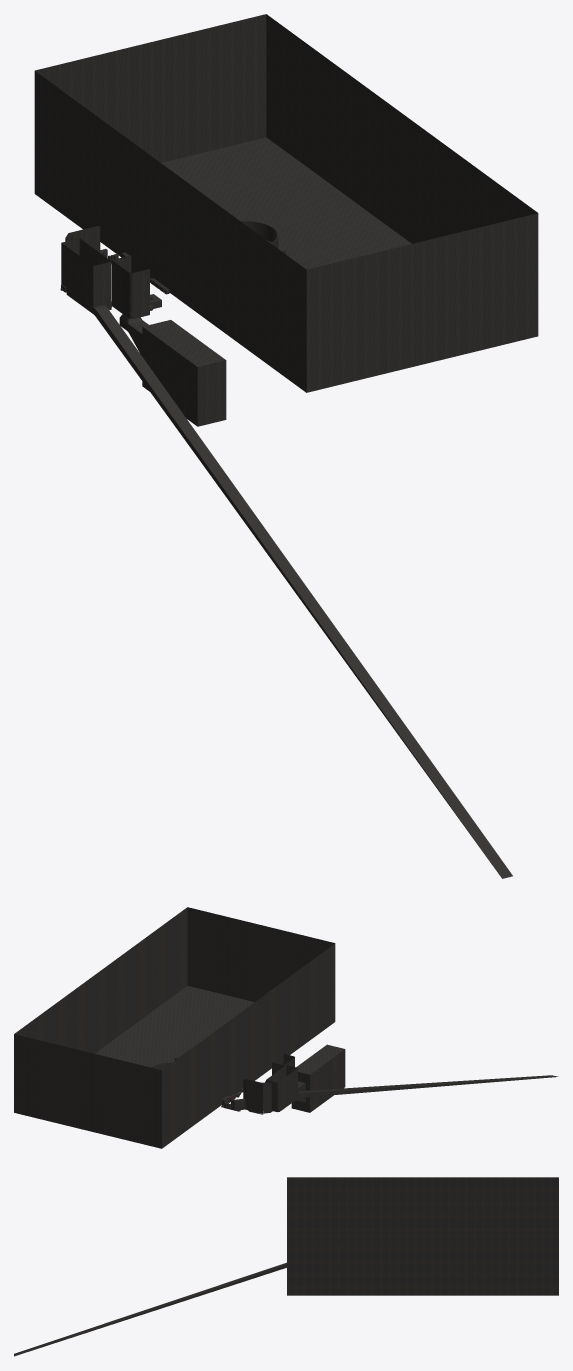
The model's file is sp_city.obj.
3 views of the same model, one above another, from view 1: azimuth 30°, elevation 25°; view 2: azimuth 150°, elevation 25°; view 3: azimuth 270°, elevation 25° (orthographic). The views are drawn at different scales.
Visible parts, largest first — view 1: mesh_584, mesh_590; view 2: mesh_584, mesh_590; view 3: mesh_584.
Part boxes in pixels (x1,y1,x2,y2): mesh_584: (34, 14, 538, 878); mesh_590: (119, 314, 226, 426); mesh_584: (14, 907, 558, 1148); mesh_590: (291, 1044, 345, 1112); mesh_584: (14, 1177, 558, 1356).
Bounding box in the file's own units: 549 × 659 × 1668.
